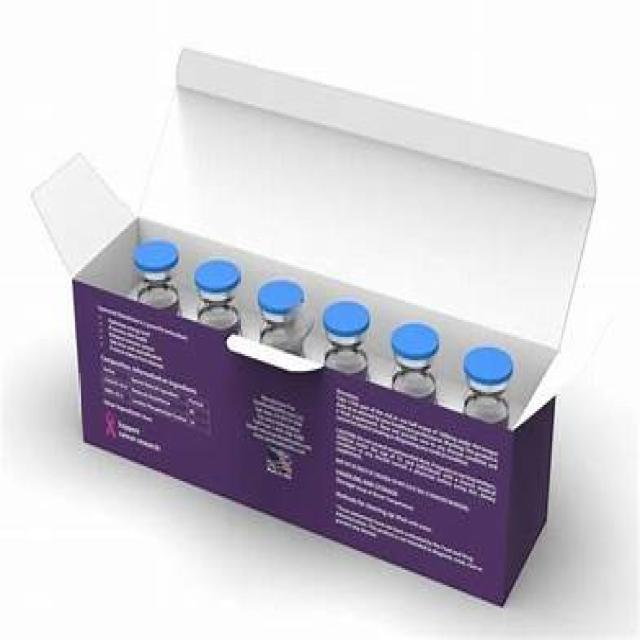vial: (254, 278, 308, 316), (467, 348, 512, 386), (134, 239, 183, 271), (395, 325, 437, 362), (319, 305, 372, 333), (195, 260, 239, 288)
